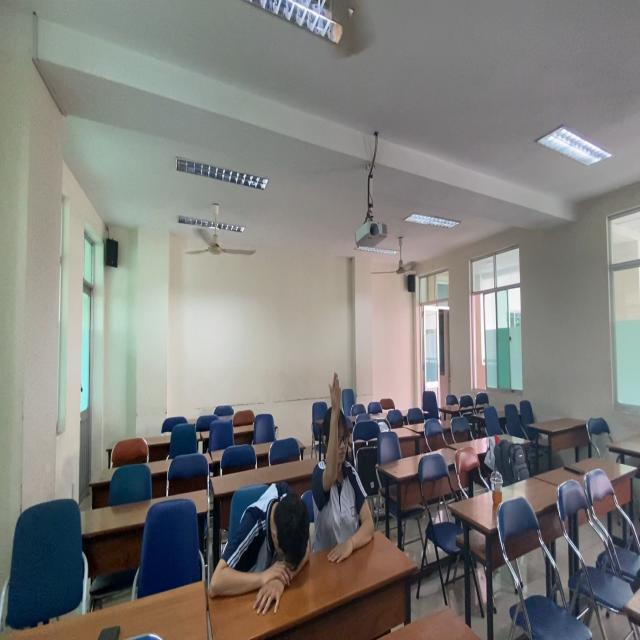raise_hand: (318, 370, 366, 541)
sleep: (206, 472, 314, 608)
